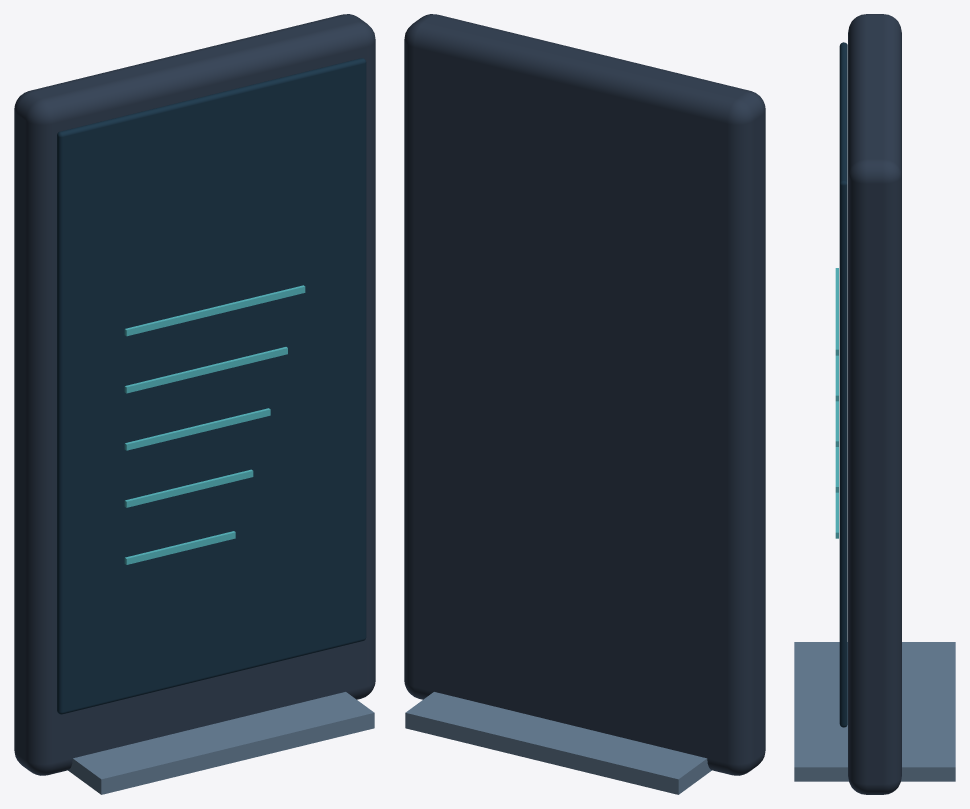
The model's file is display-device.glb.
3 renders of one model, left to right at view 1: azimuth 30°, elevation 25°; view 2: azimuth 150°, elevation 25°; view 3: azimuth 270°, elevation 25°, orthographic. The views are drawn at different scales.
Size of the model in its own units: 0.7 by 1.3 by 0.3.
